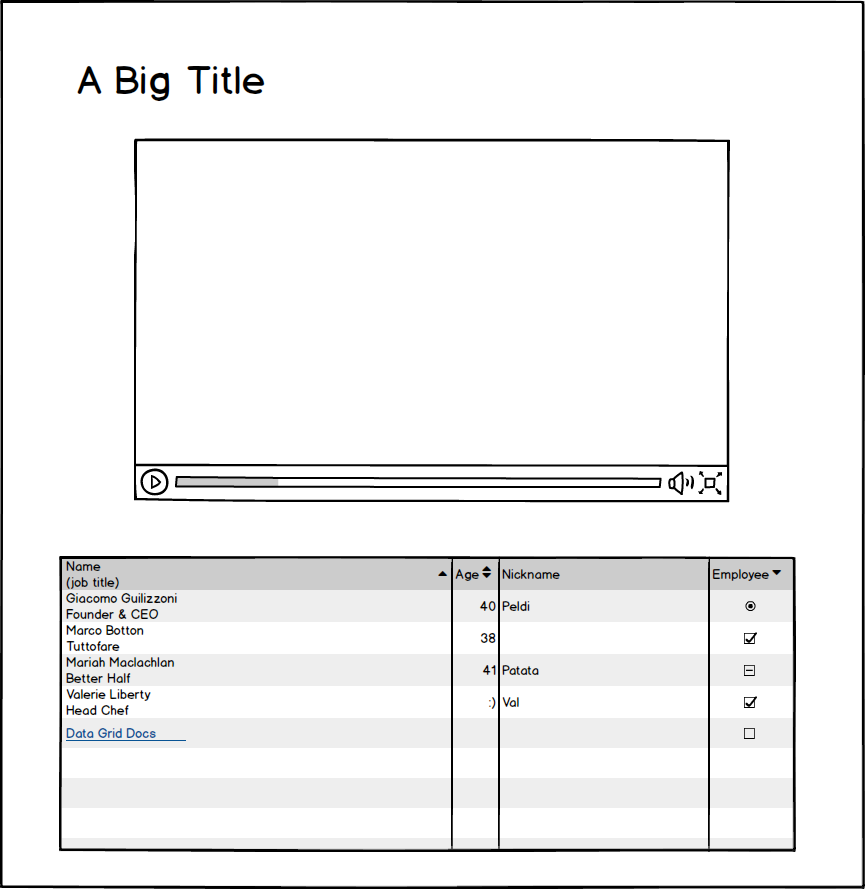h1: (66, 55, 271, 111)
table: (55, 550, 802, 859)
video: (132, 129, 734, 508)
